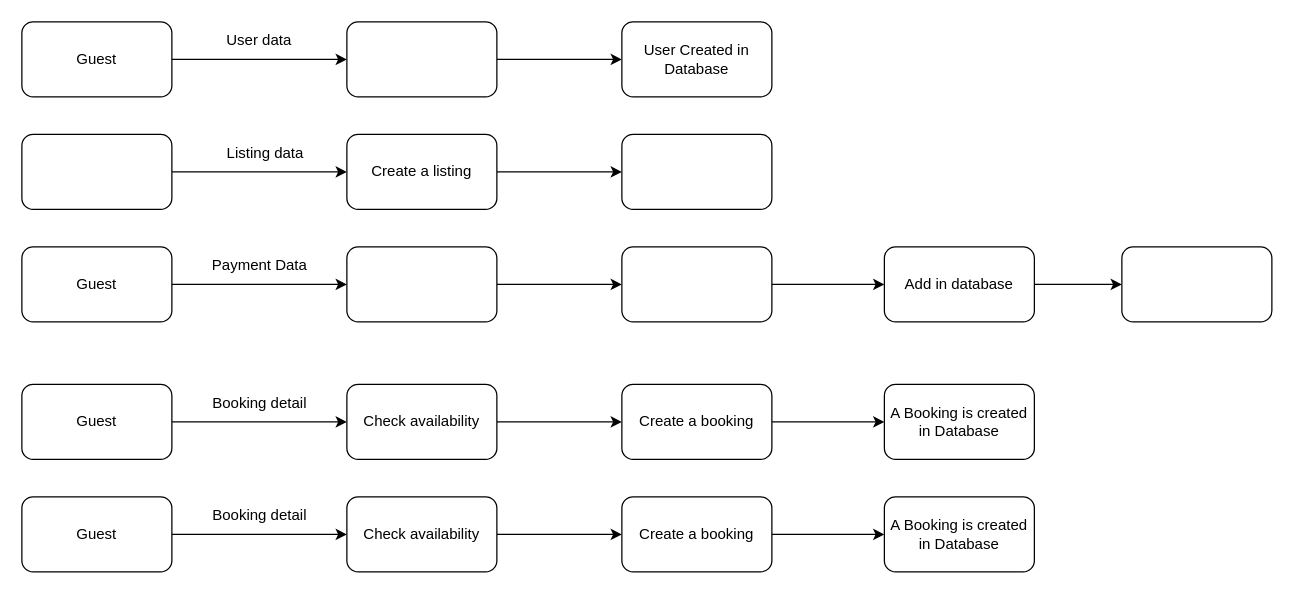
The diagram is 1294 pixels wide and 594 high, and some of its shapes have lost their labels. Here are the shapes that lost their labels. From the top down, the centre of each, then its label:
At [421,59]: "Create Account".
At [96,171]: "Host".
At [696,171]: "A listing Created in Database".
At [421,284]: "Connect to the payment gateway".
At [696,284]: "Make a payment".
At [1196,284]: "Notify user and guest".
